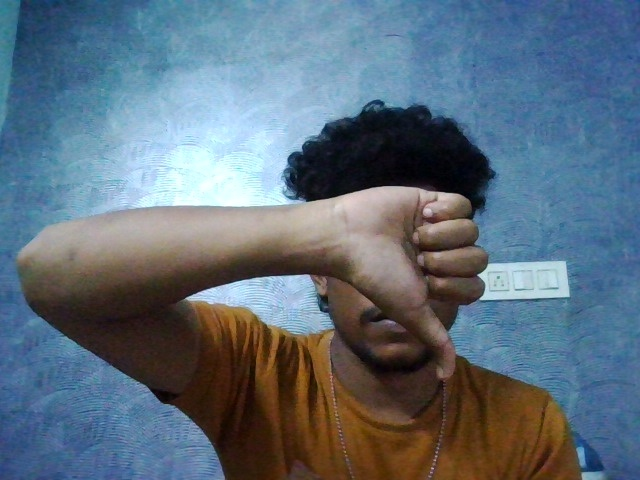no: (325, 182, 506, 392)
